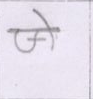e_matra: (33, 9, 55, 28)
